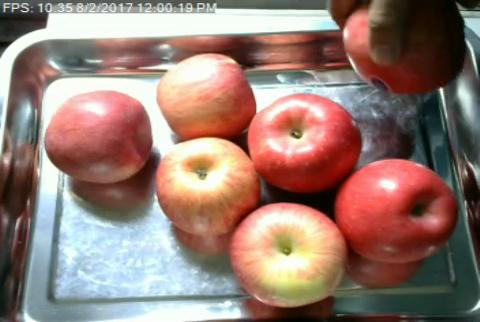apple: (336, 159, 459, 264), (229, 203, 346, 307), (248, 94, 362, 191), (43, 89, 152, 184), (155, 138, 259, 235), (157, 53, 257, 141)
